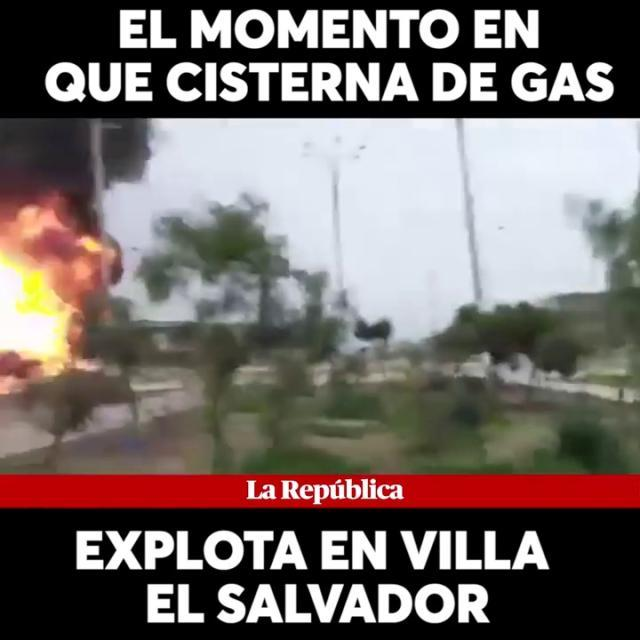Fire: (0, 198, 108, 372)
Smoke: (0, 119, 168, 234)
